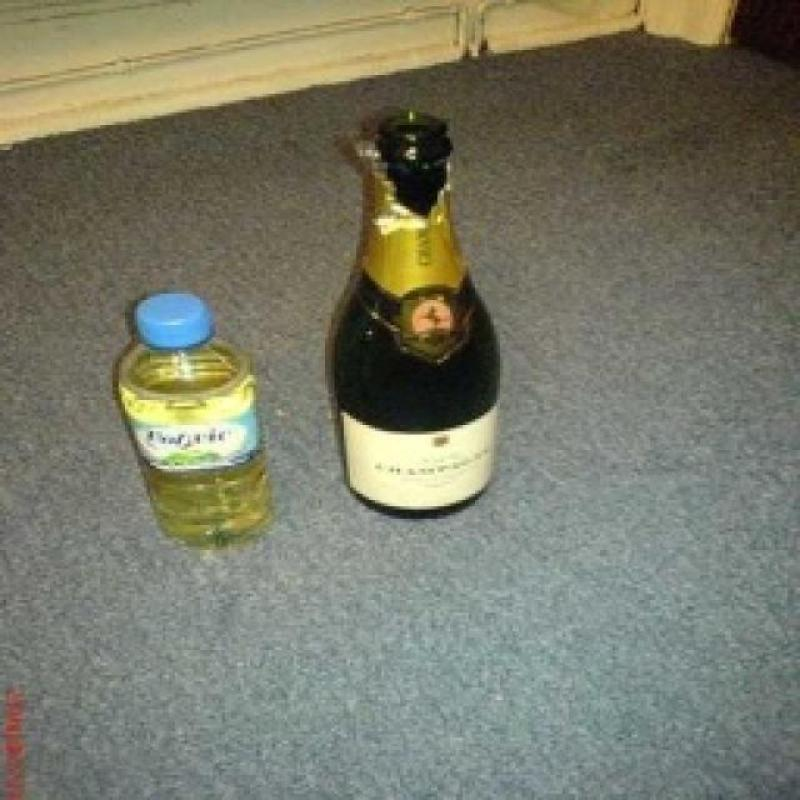botella: (115, 292, 275, 542)
